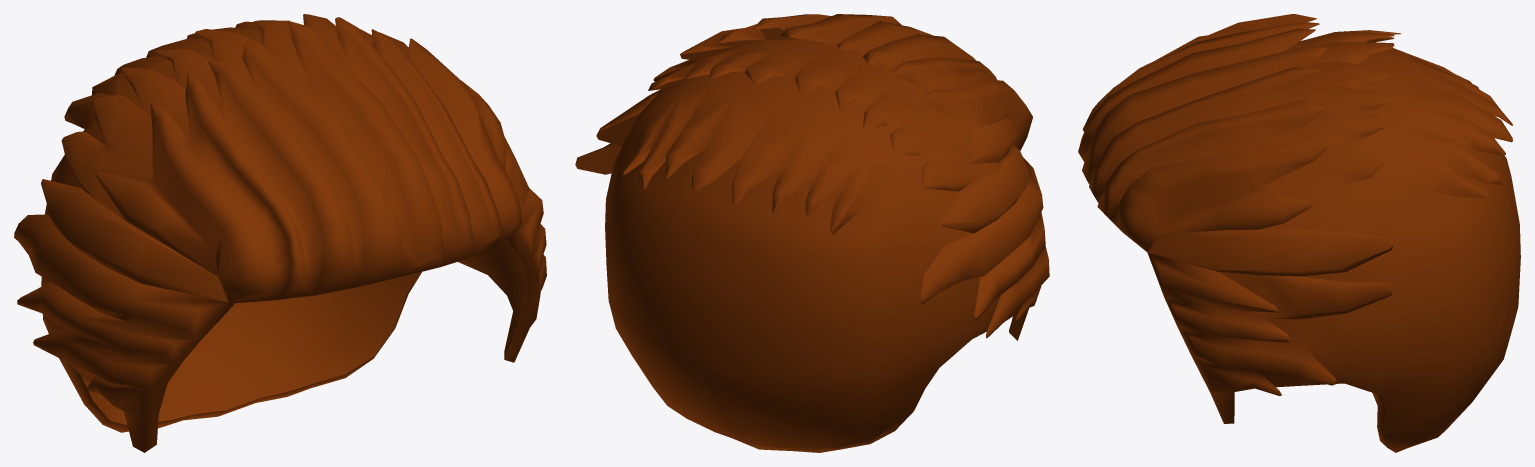
File: Hair_13_02.fbx
The picture shows the model from 3 angles, left to right: view 1: azimuth 30°, elevation 25°; view 2: azimuth 150°, elevation 25°; view 3: azimuth 270°, elevation 25°; orthographic projection. The views are drawn at different scales.
Visible parts, largest first — view 1: Hair_13_02; view 2: Hair_13_02; view 3: Hair_13_02.
Boxes of the visible parts, x1,y1,x2,y2 form: Hair_13_02: (14,14,546,452); Hair_13_02: (575,14,1049,452); Hair_13_02: (1078,14,1520,452).
Size of the model in its own units: 41.2 by 37.07 by 38.65.
